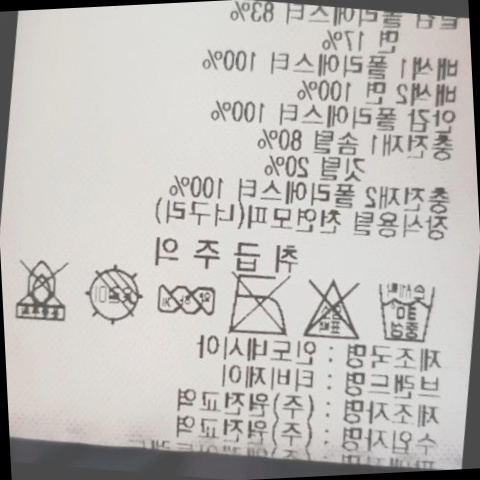DN_iron: (222, 268, 297, 344)
hand_wash: (366, 273, 439, 350)
line_dry_in_shade: (77, 259, 145, 330)
non_chlorine_bleach: (293, 264, 368, 346)
wring: (148, 274, 219, 323)
